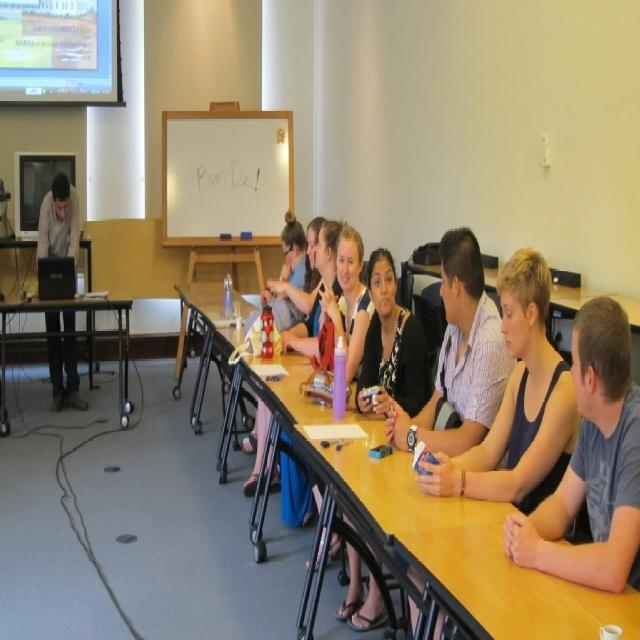Whiteboard: (161, 112, 292, 245)
